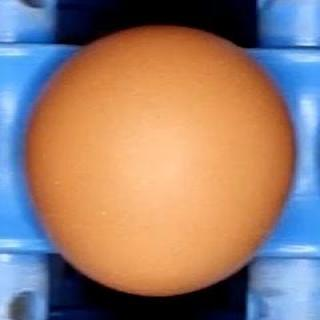Telur: (12, 16, 308, 301)
